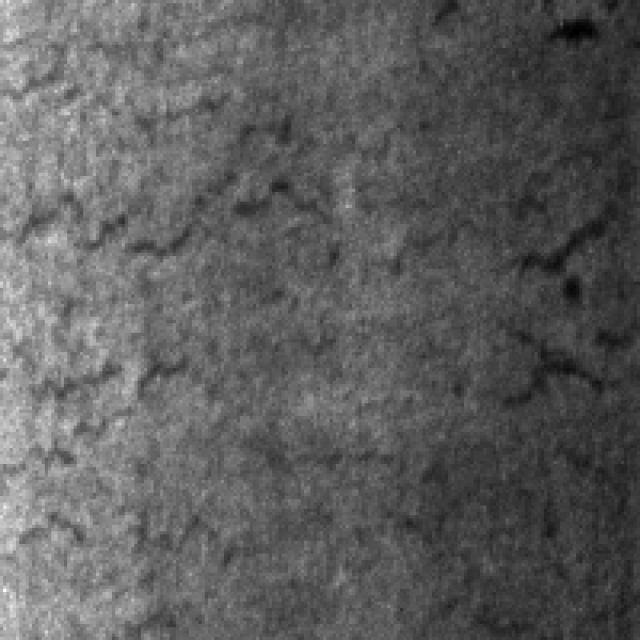crazing: (400, 154, 637, 630), (6, 3, 333, 304), (10, 349, 282, 637)
